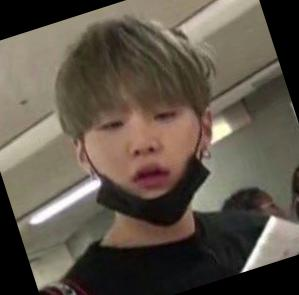mask_weared_incorrect: (80, 91, 227, 235)
